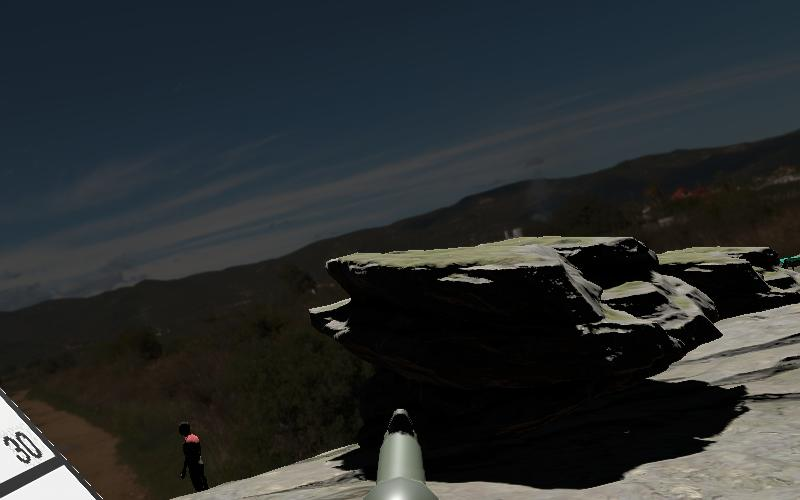Human: (177, 419, 210, 496)
